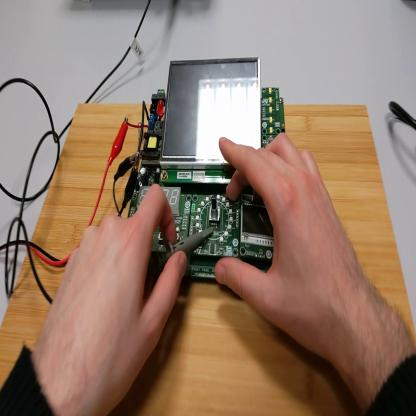hand: (37, 182, 186, 415), (212, 130, 360, 362)
low voltage board: (129, 58, 286, 278)
oscilloscope probe tip: (147, 219, 216, 282)
working area: (2, 102, 416, 415)
